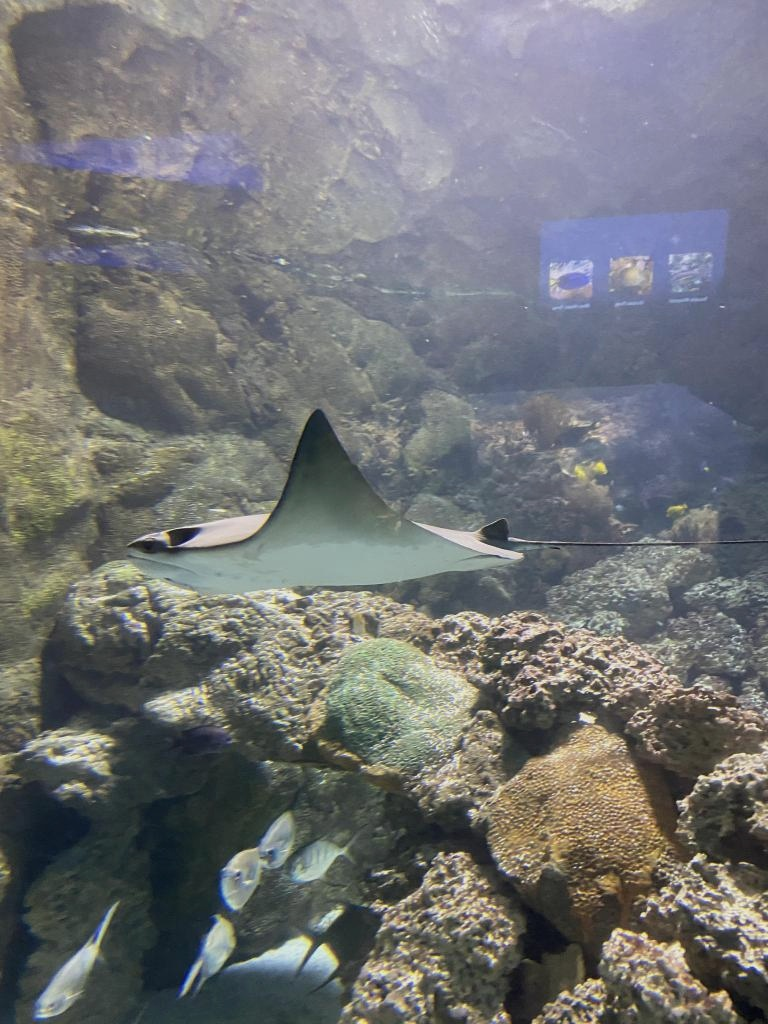fish: (36, 900, 118, 1016), (182, 915, 234, 993), (282, 834, 354, 882), (222, 847, 260, 907), (260, 805, 294, 867)
stingray: (121, 404, 526, 592)
